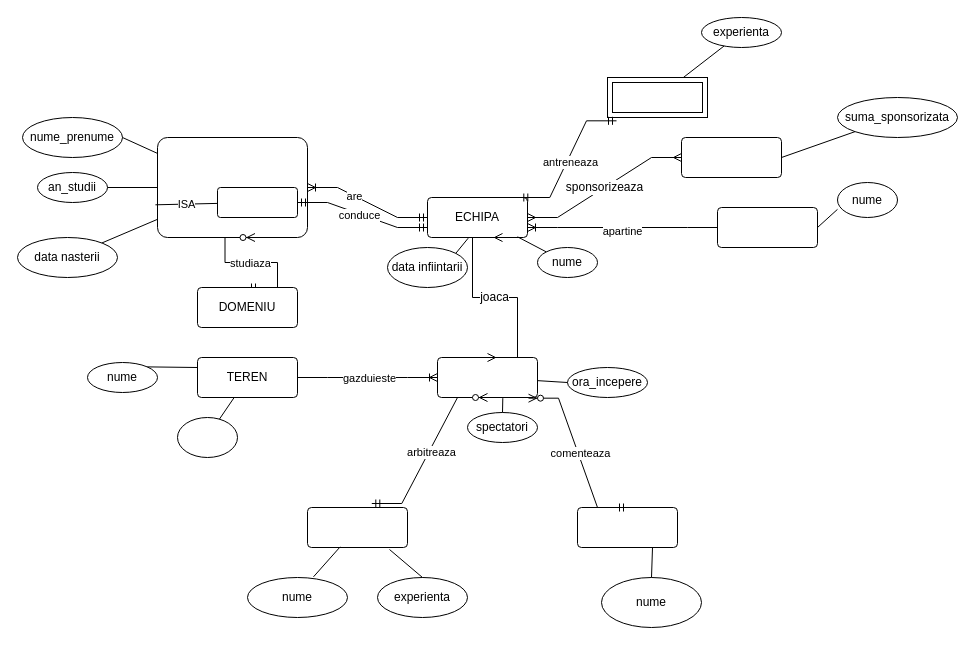
The diagram is 975 pixels wide and 645 high, and some of its shapes have lost their labels. Each missing label, with the box of its shape:
ANTRENOR: (606, 76, 708, 118)
ARBITRU: (576, 506, 678, 548)
capacitate: (176, 416, 238, 458)
CAPITAN: (216, 186, 298, 218)
COMENTATOR: (306, 506, 408, 548)
GRUPA: (716, 206, 818, 248)
JUCATOR: (156, 136, 308, 238)
MECI: (436, 356, 538, 398)
SPONSOR: (680, 136, 782, 178)
